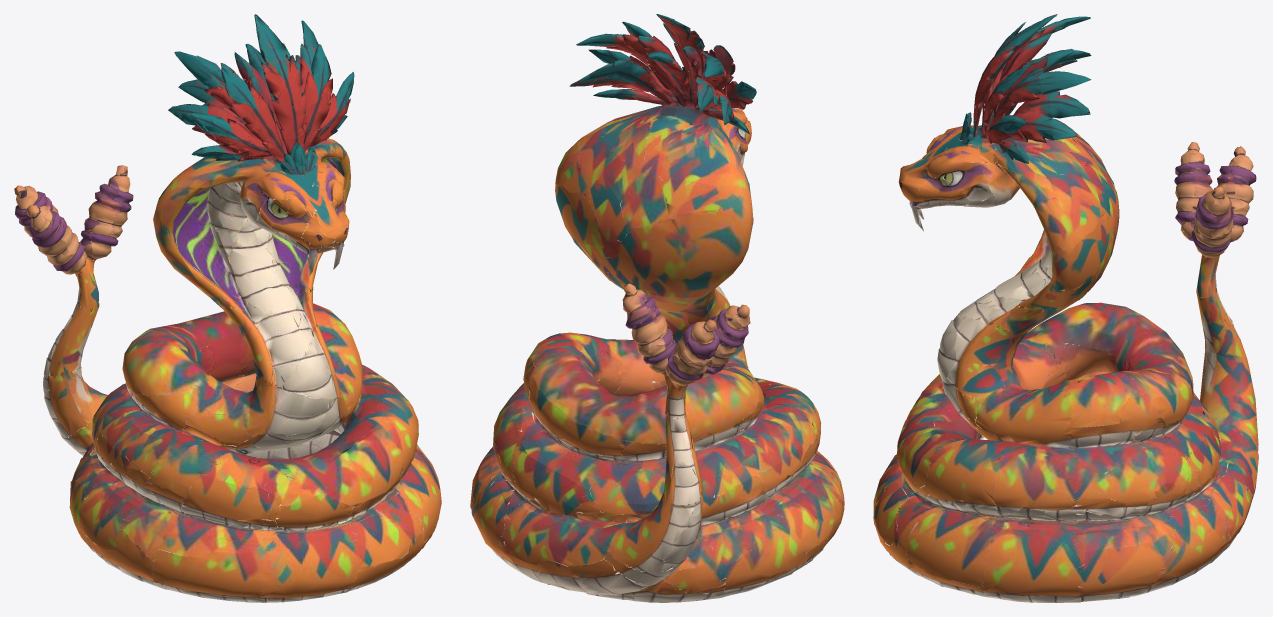
3 renders of one model, left to right at view 1: azimuth 30°, elevation 25°; view 2: azimuth 150°, elevation 25°; view 3: azimuth 270°, elevation 25°, orthographic.
Parts seen in each view (by area): view 1: Mesh_0; view 2: Mesh_0; view 3: Mesh_0.
Part boxes in pixels (x1,y1,x2,y2): Mesh_0: (14,14,441,602); Mesh_0: (470,14,844,602); Mesh_0: (873,14,1258,602).
Bounding box in the file's own units: 1.23 × 1.9 × 1.27.
Materials: 1 (1 with a texture image).
